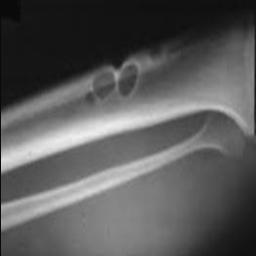cancer: (81, 42, 179, 108)
